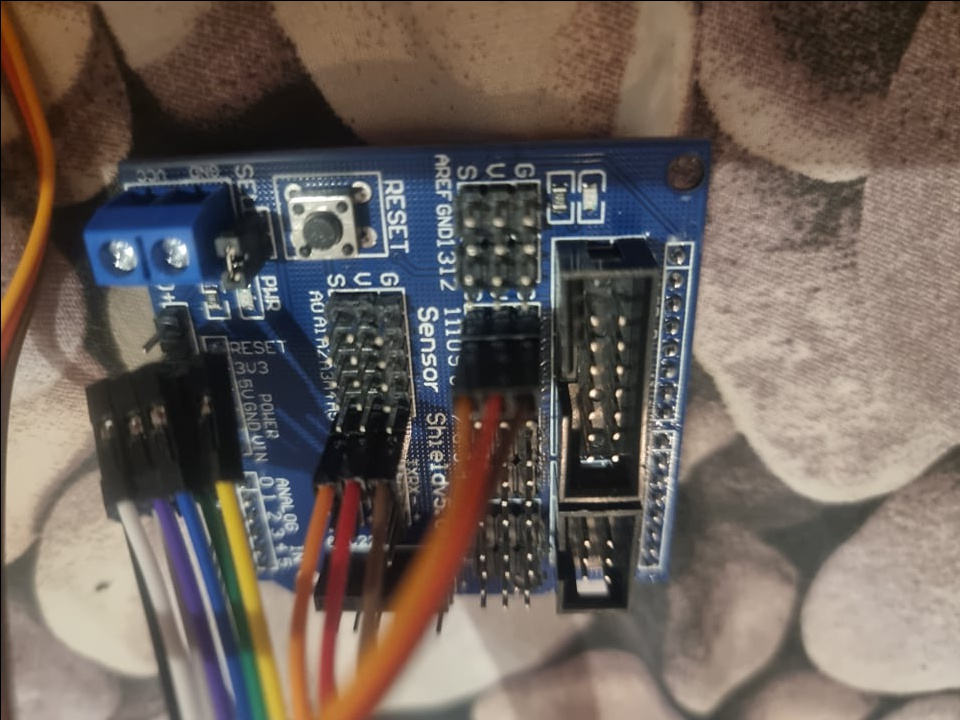5V EXPANSION: (80, 136, 712, 620)
